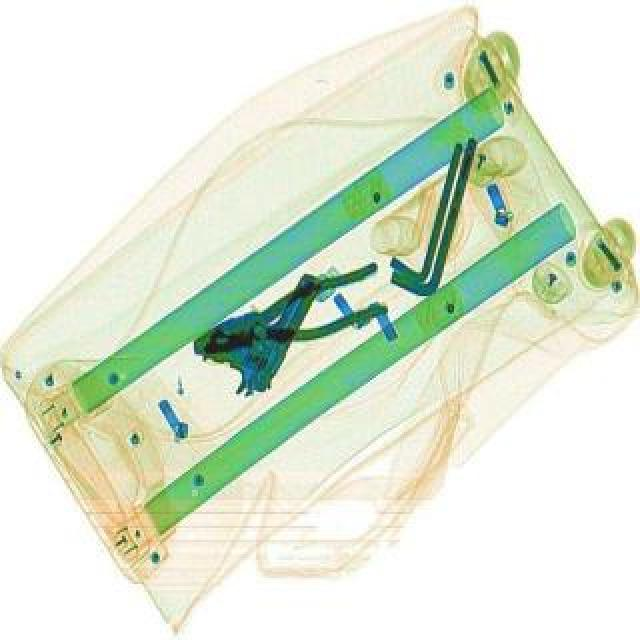gun: (190, 250, 324, 406)
wrench: (182, 260, 396, 372)
